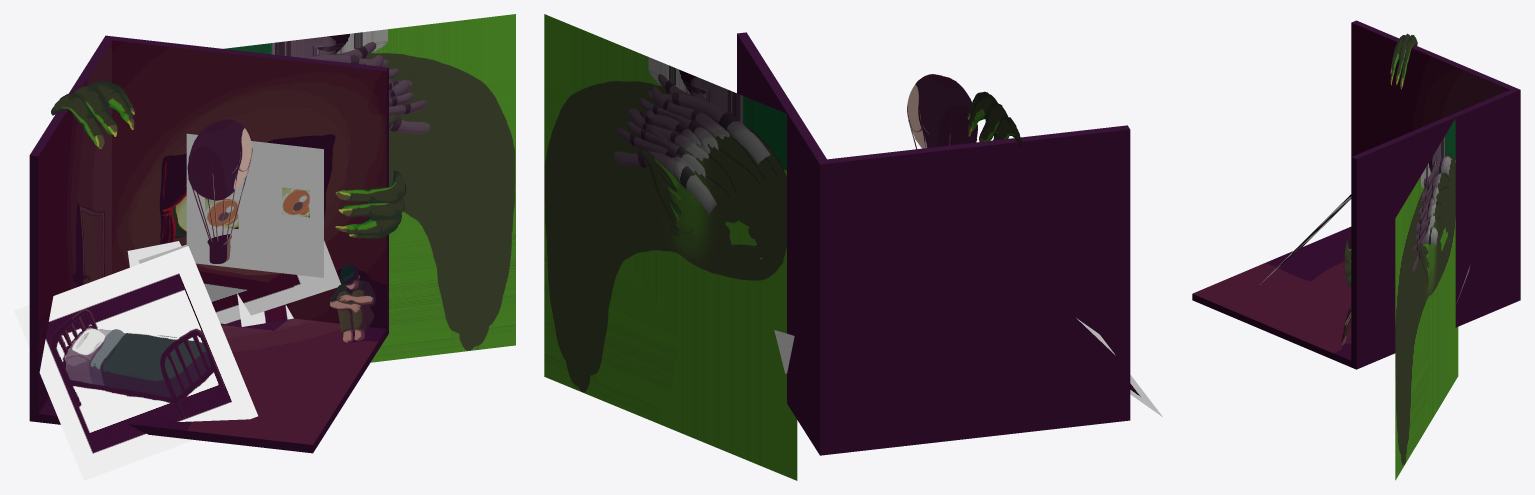
File: night.dae
The picture shows the model from 3 angles, left to right: view 1: azimuth 30°, elevation 25°; view 2: azimuth 150°, elevation 25°; view 3: azimuth 270°, elevation 25°; orthographic projection. The views are drawn at different scales.
Parts seen in each view (by area): view 1: monster, wallR, bed, floor, eyes, wallL, outside, light, desk, hand, hand.1, scared_boy (+2 smaller); view 2: outside, monster, light, hand.1; view 3: outside, monster, floor, wallL, hand.1, bed.
Part boxes in pixels (bbox=[...]): monster: bbox=[223, 14, 515, 362]; wallR: bbox=[112, 40, 386, 328]; bed: bbox=[14, 246, 257, 480]; floor: bbox=[38, 318, 386, 444]; eyes: bbox=[186, 133, 323, 277]; wallL: bbox=[38, 41, 111, 413]; outside: bbox=[29, 35, 388, 453]; light: bbox=[187, 118, 252, 263]; desk: bbox=[138, 240, 340, 323]; hand: bbox=[335, 170, 405, 238]; hand.1: bbox=[51, 81, 134, 148]; scared_boy: bbox=[329, 265, 375, 342]; outside: bbox=[737, 32, 1130, 455]; monster: bbox=[544, 14, 797, 480]; light: bbox=[907, 74, 977, 149]; hand.1: bbox=[967, 91, 1022, 146]; outside: bbox=[1192, 20, 1520, 369]; monster: bbox=[1395, 119, 1458, 480]; floor: bbox=[1193, 227, 1351, 360]; wallL: bbox=[1351, 22, 1509, 156]; hand.1: bbox=[1390, 33, 1417, 89]; bed: bbox=[1260, 194, 1351, 284].
Size of what is drawn, in the model's own units: 643 by 476 by 453.
13 materials, 11 textured.
